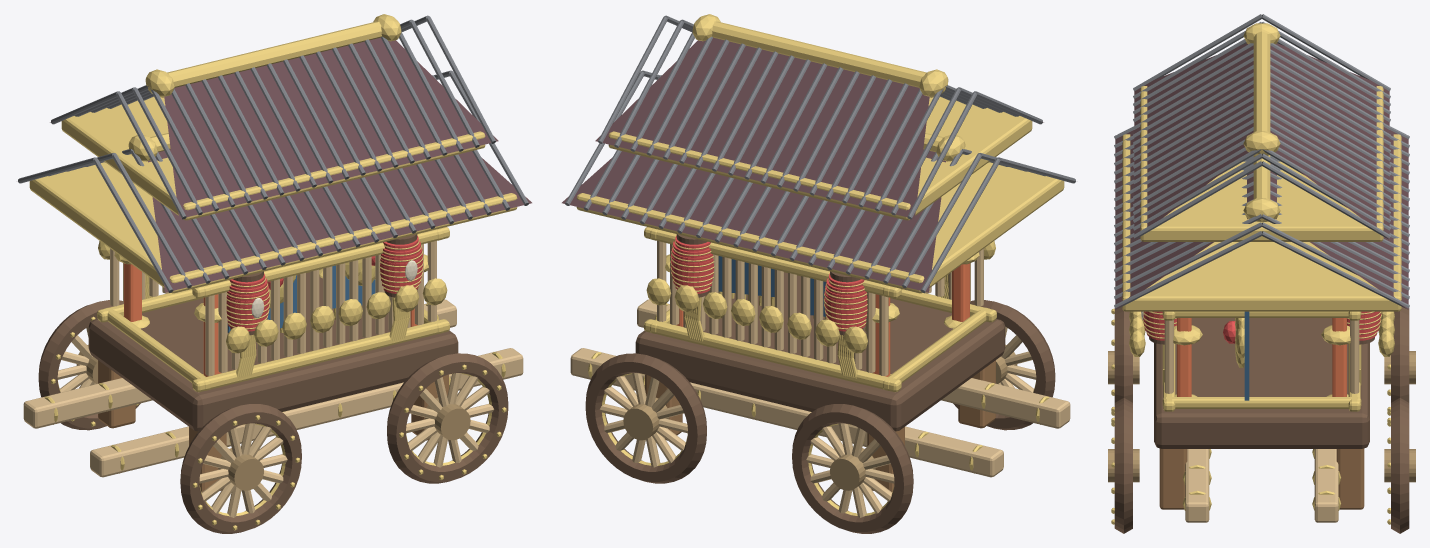
Rendered from matsuri_hikiyama.glb.
The picture shows the model from 3 angles, left to right: view 1: azimuth 30°, elevation 25°; view 2: azimuth 150°, elevation 25°; view 3: azimuth 270°, elevation 25°; orthographic projection. The views are drawn at different scales.
Visible parts, largest first — view 1: Festival shrine multi-tier roofing hipped roof.002, Heavy joined lacquered chassis, Festival shrine multi-tier roofing hipped roof, Festival shrine multi-tier roofing underedge, Festival shrine multi-tier roofing underedge.001, Side carrying beam, Carved float wheel outer tire.002, Carved float wheel outer tire, Side carrying beam.001, Festival shrine multi-tier roofing ridge.001, Carved balustrade, Carved float wheel outer tire.001 (+37 smaller); view 2: Festival shrine multi-tier roofing hipped roof.003, Heavy joined lacquered chassis, Festival shrine multi-tier roofing hipped roof.001, Festival shrine multi-tier roofing underedge, Festival shrine multi-tier roofing underedge.001, Carved float wheel outer tire.003, Carved float wheel outer tire.001, Side carrying beam.001, Side carrying beam, Festival shrine multi-tier roofing ridge.001, Carved balustrade.001, Carved float wheel outer tire (+38 smaller); view 3: Heavy joined lacquered chassis, Festival shrine multi-tier roofing underedge, Festival shrine multi-tier roofing underedge.001, Festival shrine multi-tier roofing hipped roof.002, Festival shrine multi-tier roofing hipped roof.003, Festival shrine multi-tier roofing hipped roof, Festival shrine multi-tier roofing hipped roof.001, Carved float wheel outer tire.002, Carved float wheel outer tire.003, Hand-carved transverse sill.001, Festival shrine multi-tier roofing decorative ridge finial.0 (×3), Festival shrine multi-tier roofing ridge.001 (+67 smaller).
Part boxes in pixels (x1,y1,x2,y2): Festival shrine multi-tier roofing hipped roof.002: (164,37,498,218); Heavy joined lacquered chassis: (88,272,458,431); Festival shrine multi-tier roofing hipped roof: (148,149,531,292); Festival shrine multi-tier roofing underedge: (29,162,517,293); Festival shrine multi-tier roofing underedge.001: (61,96,485,220); Side carrying beam: (90,348,523,477); Carved float wheel outer tire.002: (387,353,508,483); Carved float wheel outer tire: (180,404,301,533); Side carrying beam.001: (23,299,456,428); Festival shrine multi-tier roofing ridge.001: (167,21,381,87); Carved balustrade: (192,319,449,392); Carved float wheel outer tire.001: (38,300,140,430); Festival shrine multi-tier roofing hipped roof.003: (595,37,929,218); Heavy joined lacquered chassis: (635,272,1005,431); Festival shrine multi-tier roofing hipped roof.001: (562,149,945,292); Festival shrine multi-tier roofing underedge: (576,162,1064,293); Festival shrine multi-tier roofing underedge.001: (608,96,1032,220); Carved float wheel outer tire.003: (585,353,706,483); Carved float wheel outer tire.001: (792,404,913,533); Side carrying beam.001: (570,348,1003,477); Side carrying beam: (637,299,1070,428); Festival shrine multi-tier roofing ridge.001: (712,21,926,87); Carved balustrade.001: (644,319,901,392); Carved float wheel outer tire: (953,300,1055,430); Heavy joined lacquered chassis: (1154,318,1369,448); Festival shrine multi-tier roofing underedge: (1122,134,1401,311); Festival shrine multi-tier roofing underedge.001: (1140,86,1383,241); Festival shrine multi-tier roofing hipped roof.002: (1134,43,1253,239); Festival shrine multi-tier roofing hipped roof.003: (1270,43,1389,239); Festival shrine multi-tier roofing hipped roof: (1115,130,1253,309); Festival shrine multi-tier roofing hipped roof.001: (1270,130,1408,309); Carved float wheel outer tire.002: (1114,397,1132,533); Carved float wheel outer tire.003: (1391,397,1409,533); Hand-carved transverse sill.001: (1162,397,1361,408); Festival shrine multi-tier roofing decorative ridge finial.0 (×3): (1243,23,1280,221); Festival shrine multi-tier roofing ridge.001: (1253,31,1270,131).
Size of the model in its own units: 1.95 by 1.81 by 1.26.
